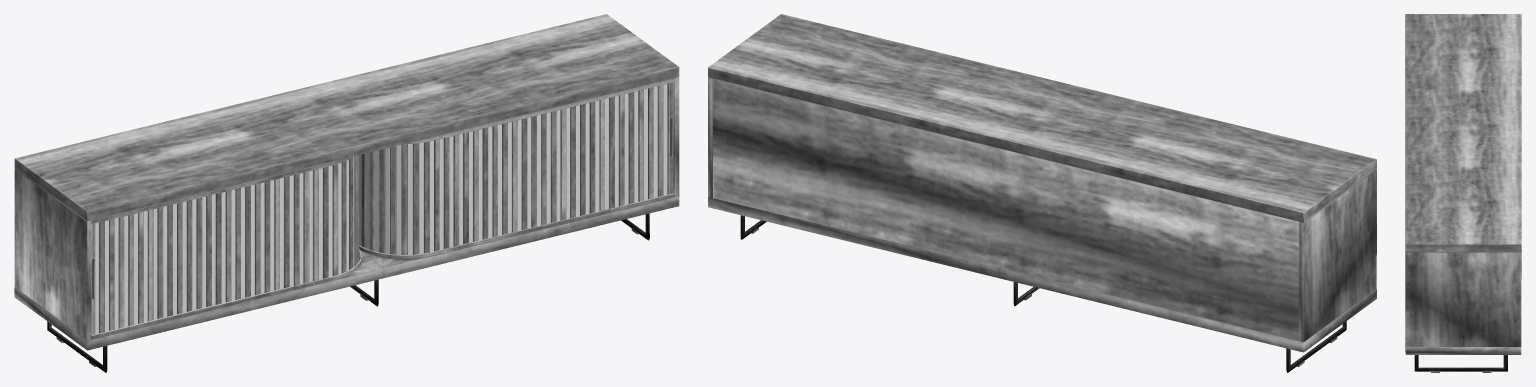
Rendered from media-unit.glb.
The picture shows the model from 3 angles, left to right: view 1: azimuth 30°, elevation 25°; view 2: azimuth 150°, elevation 25°; view 3: azimuth 270°, elevation 25°; orthographic projection. The views are drawn at different scales.
Visible parts, largest first — view 1: modern_wooden_cabinet_body, modern_wooden_cabinet_door_l; view 2: modern_wooden_cabinet_body; view 3: modern_wooden_cabinet_body.
Part boxes in pixels (<box>): modern_wooden_cabinet_body: <box>14,14,679,372</box>; modern_wooden_cabinet_door_l: <box>91,82,673,334</box>; modern_wooden_cabinet_body: <box>708,14,1376,372</box>; modern_wooden_cabinet_body: <box>1405,14,1521,372</box>.
Size of the model in its own units: 2.44 by 0.6801 by 0.5201.
1 material, 1 textured.
